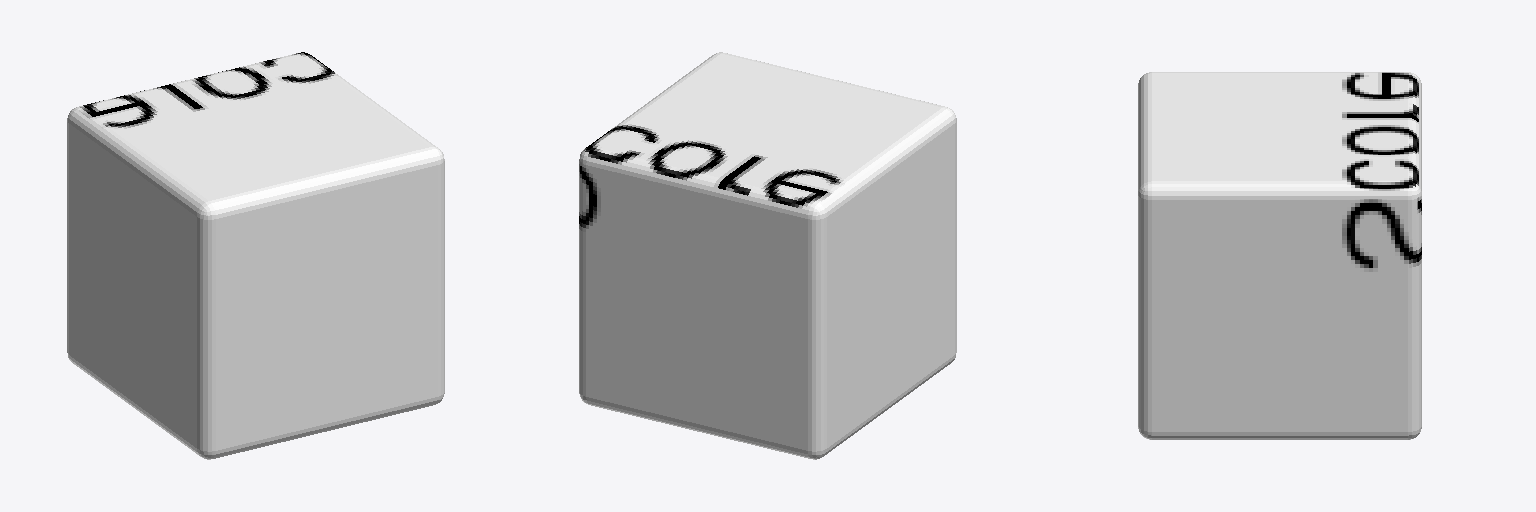
3 renders of one model, left to right at view 1: azimuth 30°, elevation 25°; view 2: azimuth 150°, elevation 25°; view 3: azimuth 270°, elevation 25°, orthographic.
Parts seen in each view (by area): view 1: Cube_Finished_Cube.001; view 2: Cube_Finished_Cube.001; view 3: Cube_Finished_Cube.001.
Part boxes in pixels (left/top/right/bottom): Cube_Finished_Cube.001: left=67, top=52, right=444, bottom=459; Cube_Finished_Cube.001: left=579, top=52, right=956, bottom=459; Cube_Finished_Cube.001: left=1138, top=72, right=1421, bottom=439.
Bounding box in the file's own units: 2 × 2 × 2.
1 materials, 1 textured.